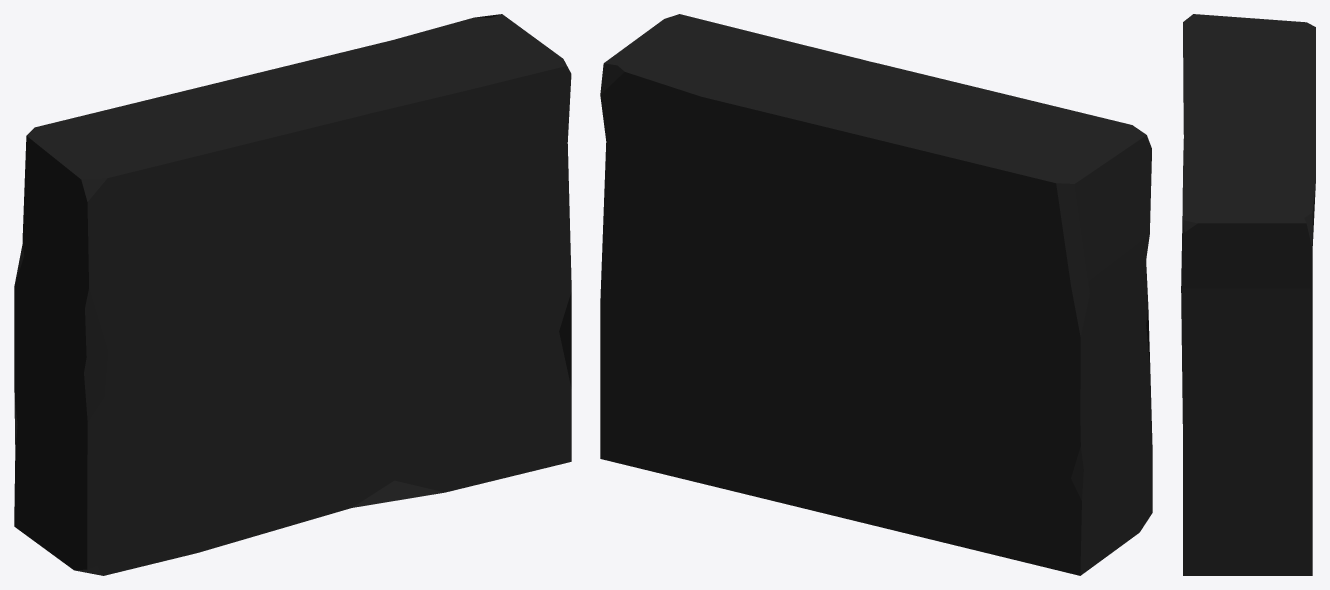
File: wall_without_crack.gltf
3 views of the same model, side by side, from view 1: azimuth 30°, elevation 25°; view 2: azimuth 150°, elevation 25°; view 3: azimuth 270°, elevation 25° (orthographic). The views are drawn at different scales.
Visible parts, largest first — view 1: Cube; view 2: Cube; view 3: Cube.
Boxes of the visible parts, x1,y1,x2,y2 form: Cube: (14,14,571,575); Cube: (600,14,1152,575); Cube: (1181,14,1315,575).
Bounding box in the file's own units: 3.84 × 3 × 1.04.
Materials: 1 (1 with a texture image).
